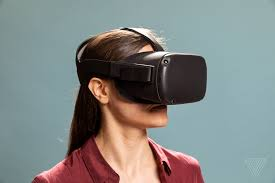oculus: (109, 50, 209, 106)
